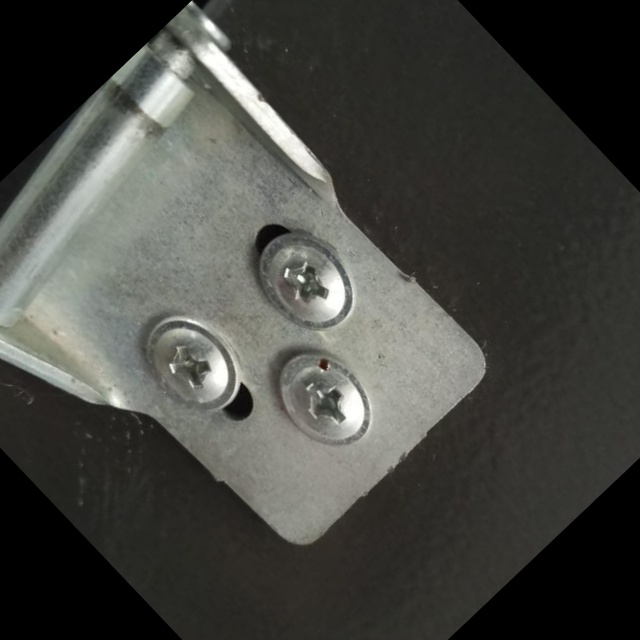phillips: (241, 214, 374, 349), (129, 297, 260, 429), (260, 334, 390, 466)
